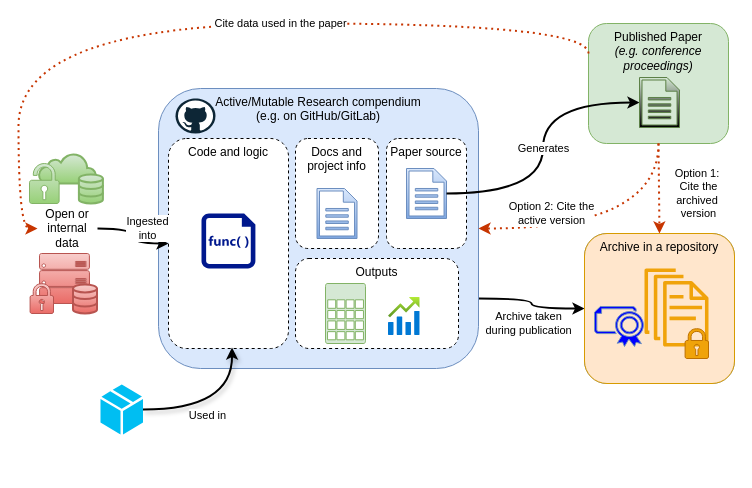
Some shapes in this 752 by 488 pixel diagram are drawn without their labels. Here are the shapes that lost their labels. From the top down, the centre of each, then its label:
At point (426, 193): "paper.qmd".
At point (619, 326): "DOI".
At point (121, 409): "Price index software package".
